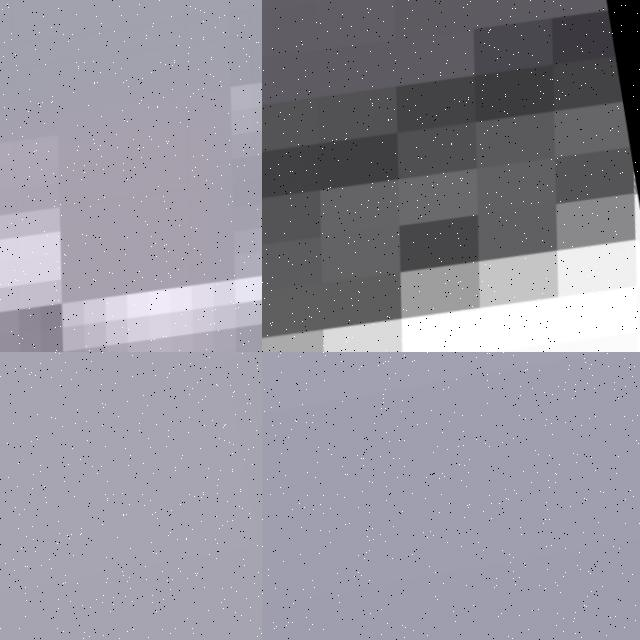drone: (262, 0, 640, 352), (0, 0, 262, 352)
